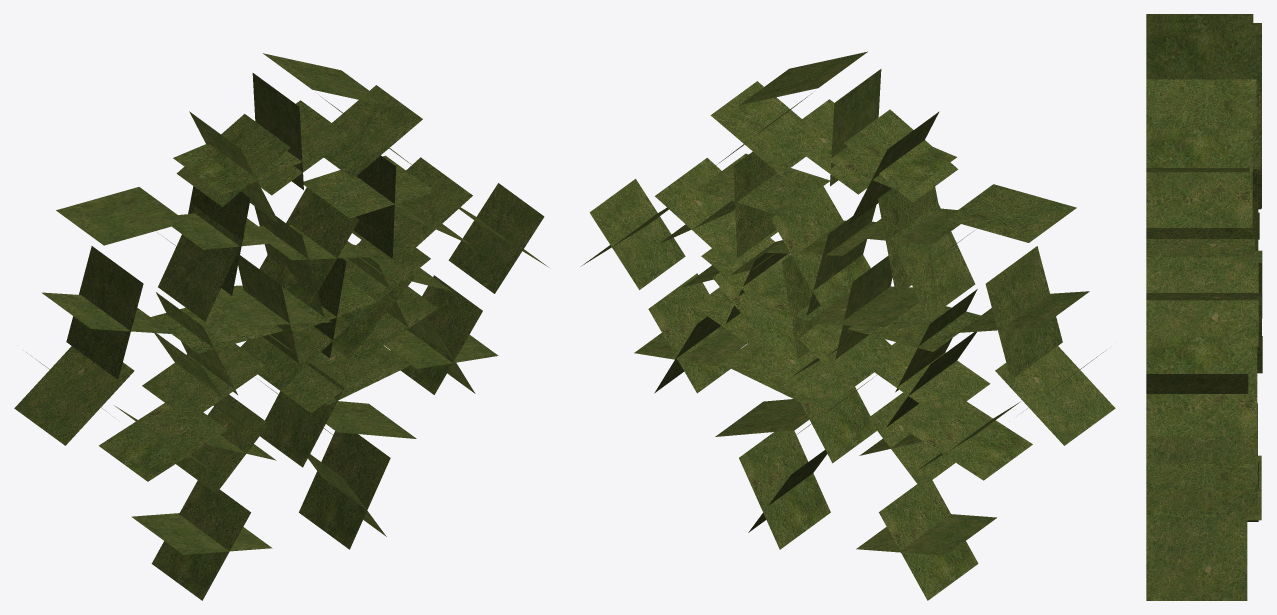
File: grass_patch_02.fbx
3 views of the same model, side by side, from view 1: azimuth 30°, elevation 25°; view 2: azimuth 150°, elevation 25°; view 3: azimuth 270°, elevation 25° (orthographic). The views are drawn at different scales.
Parts seen in each view (by area): view 1: Plane.086; view 2: Plane.086; view 3: Plane.086.
Part boxes in pixels (x1=…): Plane.086: x1=14, y1=53, x2=549, y2=600; Plane.086: x1=580, y1=51, x2=1115, y2=600; Plane.086: x1=1146, y1=14, x2=1262, y2=600.
Size of the model in its own units: 1696 by 1717 by 318.
